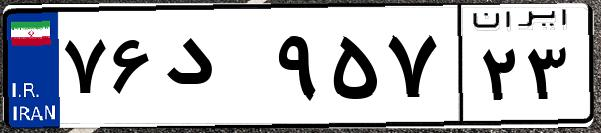2: (475, 38, 525, 113)
3: (525, 38, 570, 115)
5: (330, 28, 385, 110)
6: (110, 28, 158, 98)
7: (385, 28, 445, 110), (57, 26, 110, 100)
9: (270, 28, 330, 110)
د: (158, 20, 270, 120)
